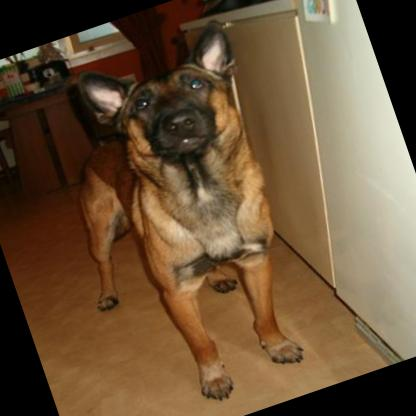malinois: (18, 15, 339, 416)
